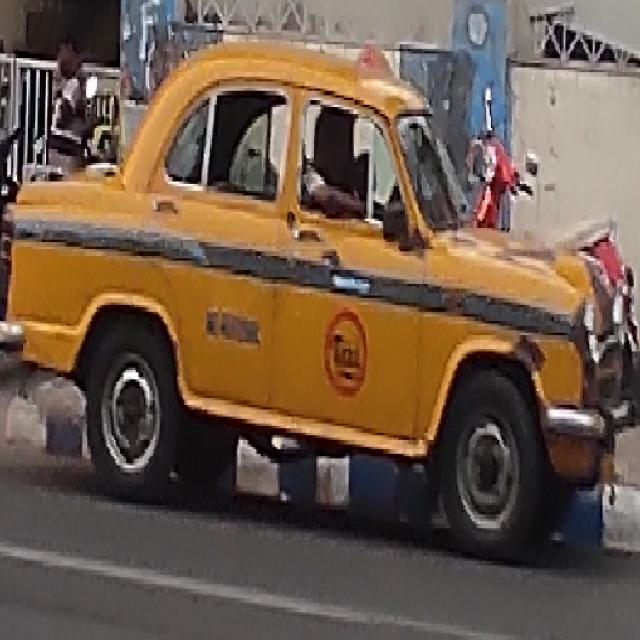ambasador_taxi: (0, 16, 612, 557)
